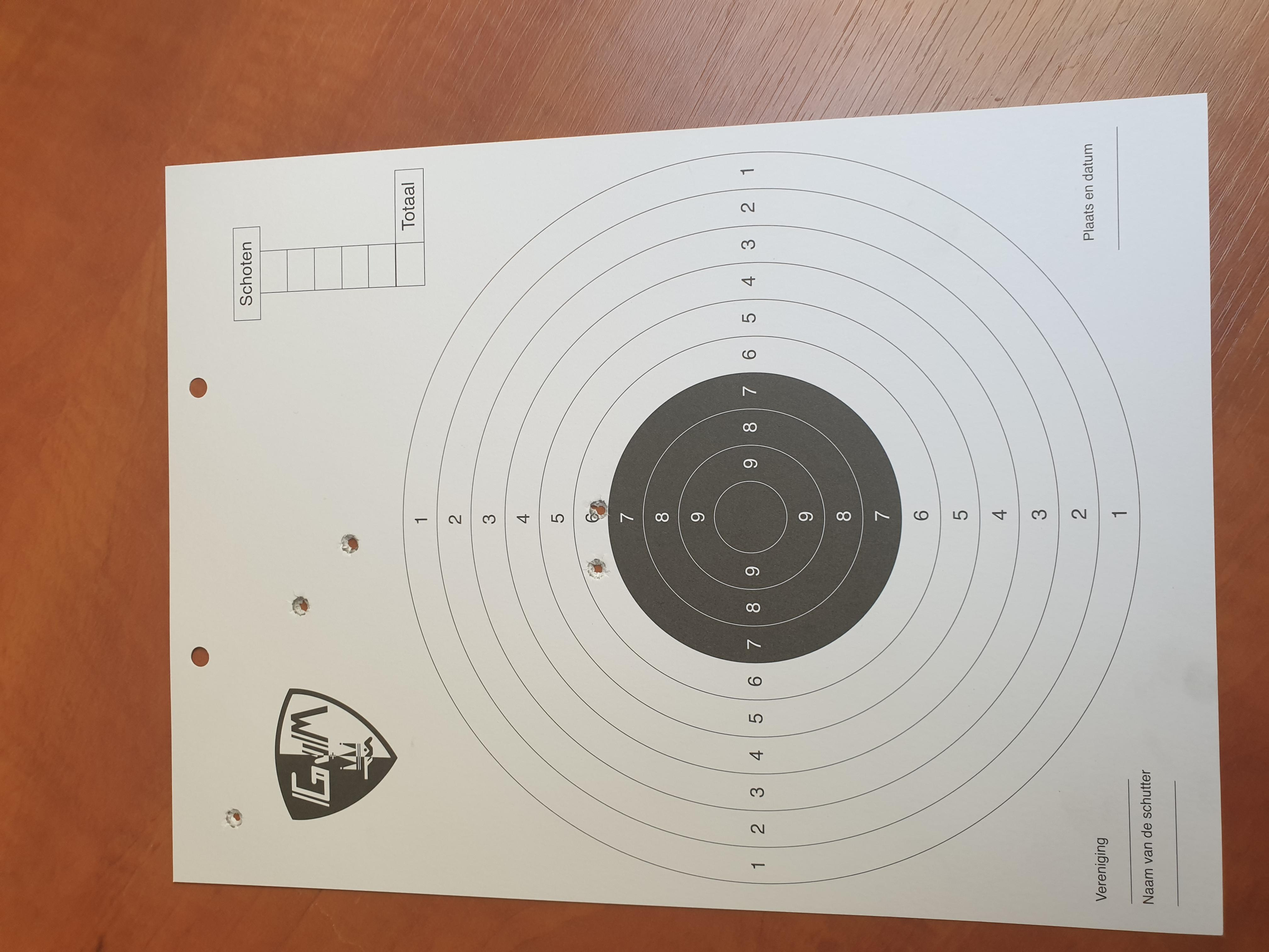hole: (580, 557, 615, 581), (337, 531, 363, 557), (583, 496, 609, 522), (292, 591, 315, 620), (223, 806, 248, 828)
